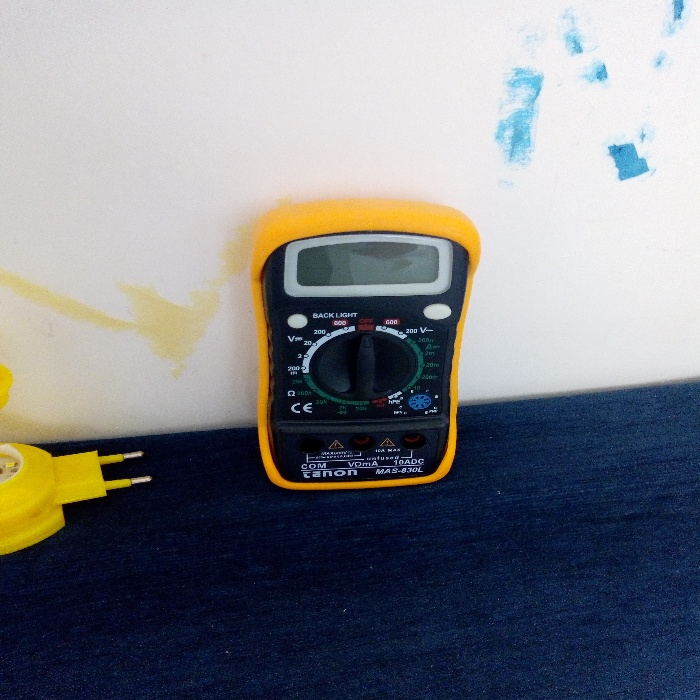multimetre: (236, 174, 485, 498)
